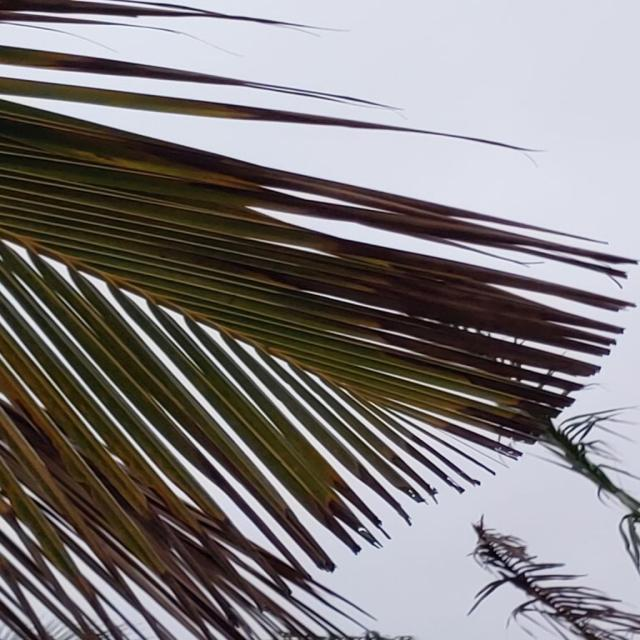gray leaf spot: (5, 113, 636, 640)
